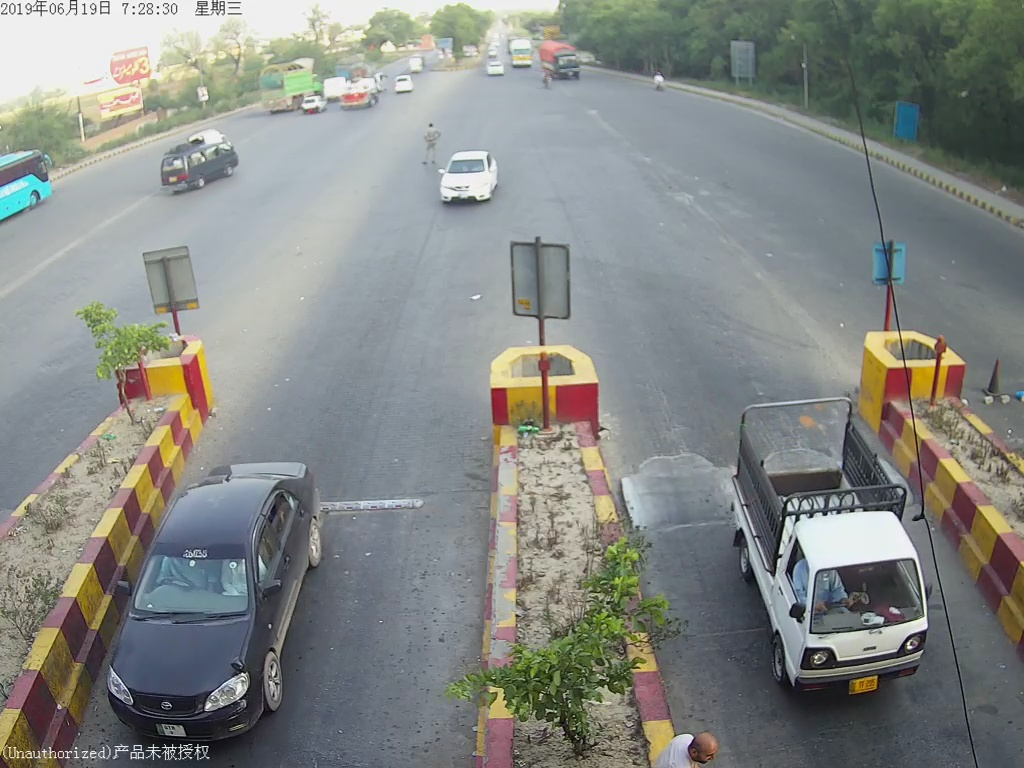Cat-1: (722, 374, 943, 710), (102, 450, 326, 740), (440, 148, 502, 205)
